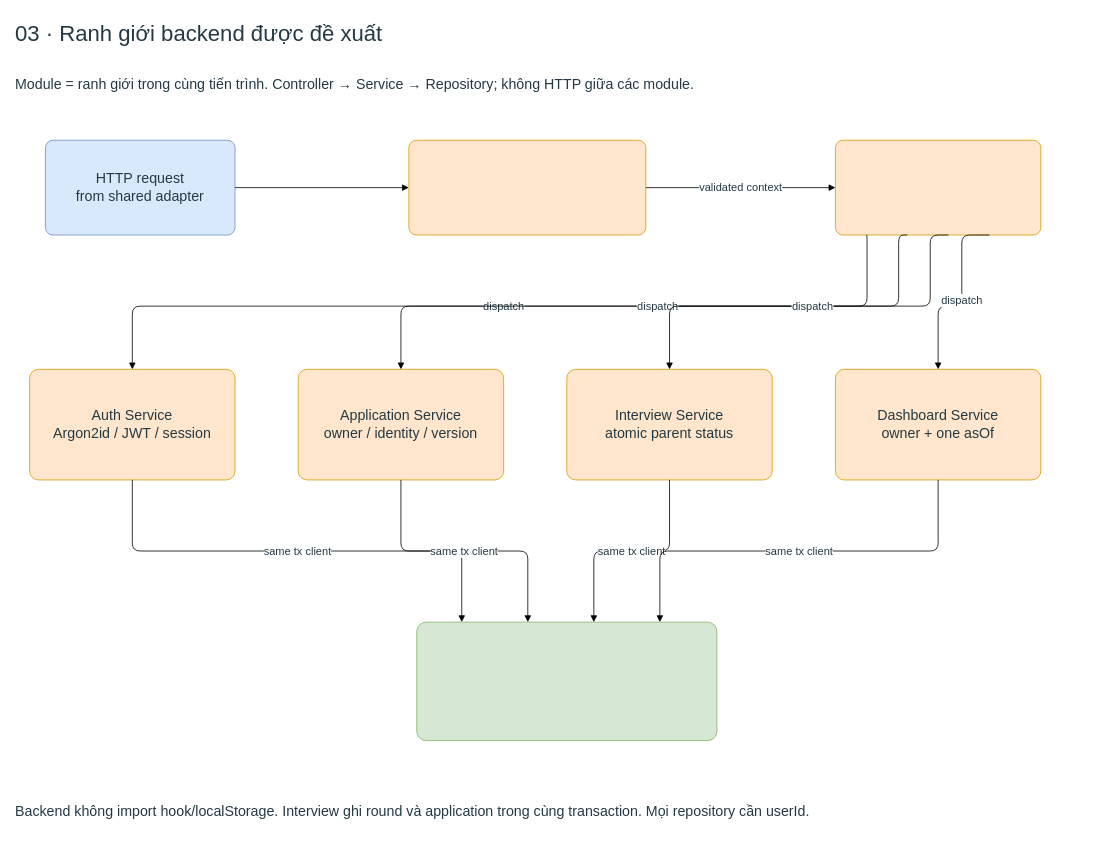
This 1101x848 diagram has some shape labels left out. The shapes that lost their labels are listed below. From the top down, each one's box as (x1, y1, x2, y2) in pixels, then its label:
(408, 139, 646, 235): Origin · auth · DTO requestId · limiter
(835, 139, 1041, 235): Controllers HTTP ↔ DTO
(416, 621, 717, 741): Owned Repositories + pg client withTransaction / injected clock
